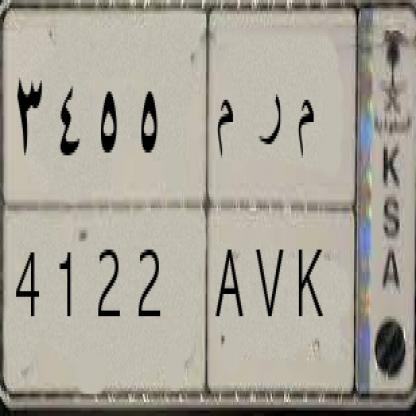english: (0, 192, 363, 390)
